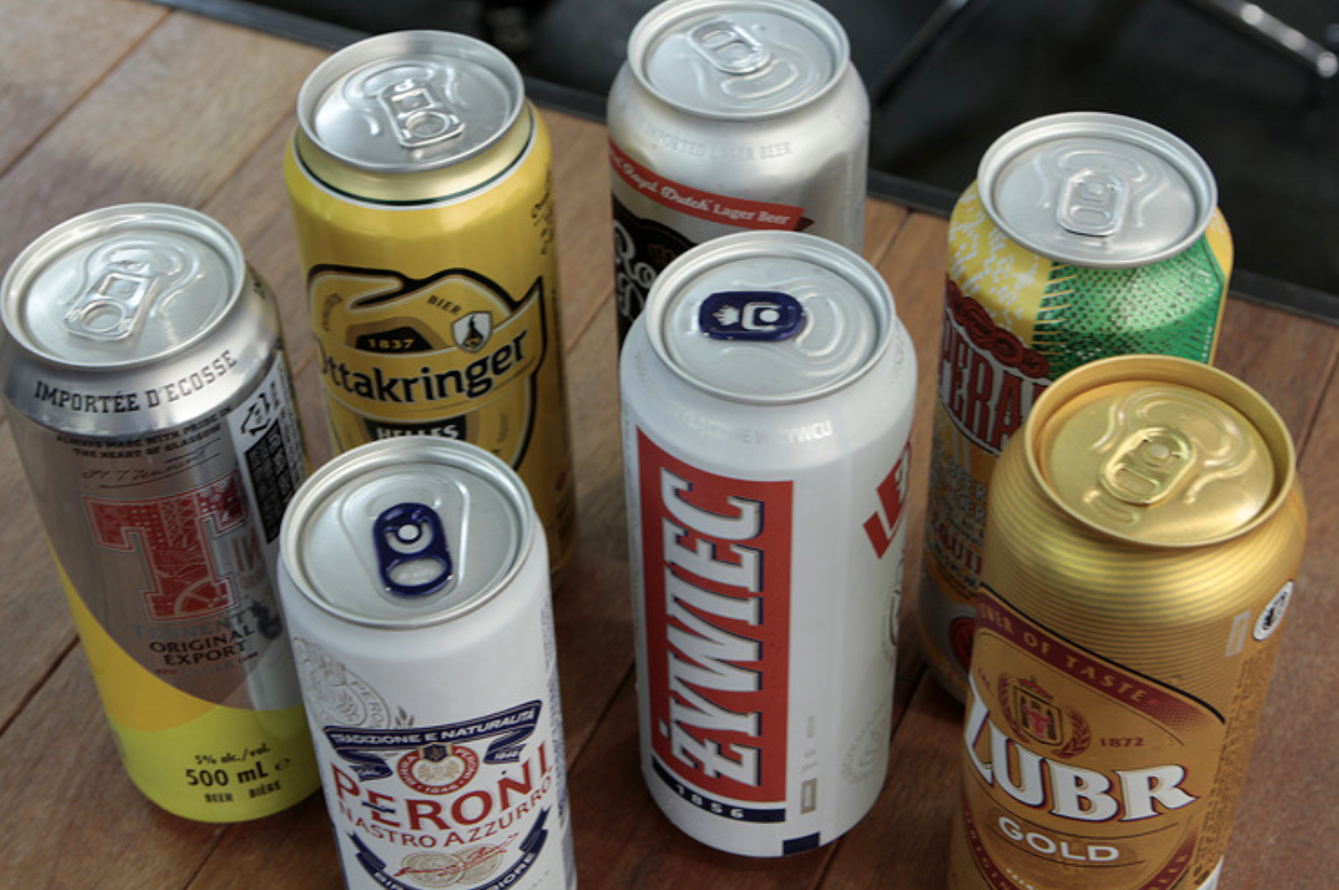beer-can: (619, 218, 934, 859), (0, 200, 319, 823), (949, 347, 1308, 890), (923, 107, 1233, 685), (283, 29, 577, 590), (273, 436, 578, 890), (601, 0, 872, 356)
